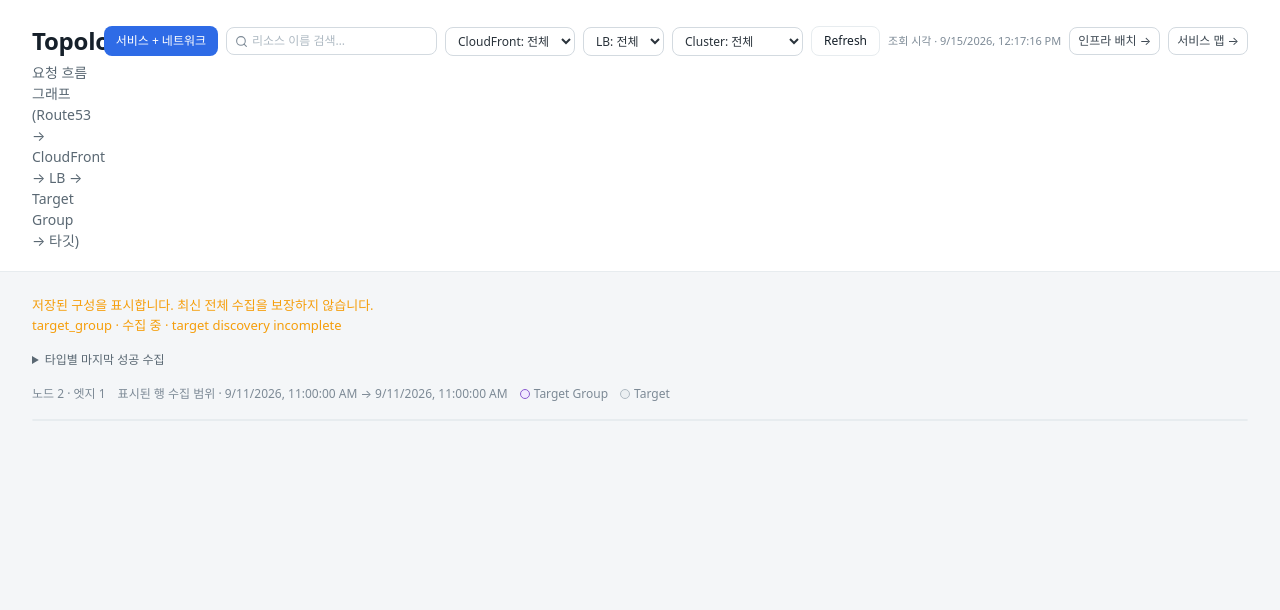
topology page URL and restored scope › keeps retained rows usable for an HTTP 200 running run and preserves the older successful collection
expect the button "서비스 + 네트워크" is shown: met, box [104,26,218,56]
expect the message shows "수집 중": met, box [122,316,162,334]
Type "tg-orders" into the field with placeholder "리소스 이름 검색…" at (340, 41), box [252,32,428,50]
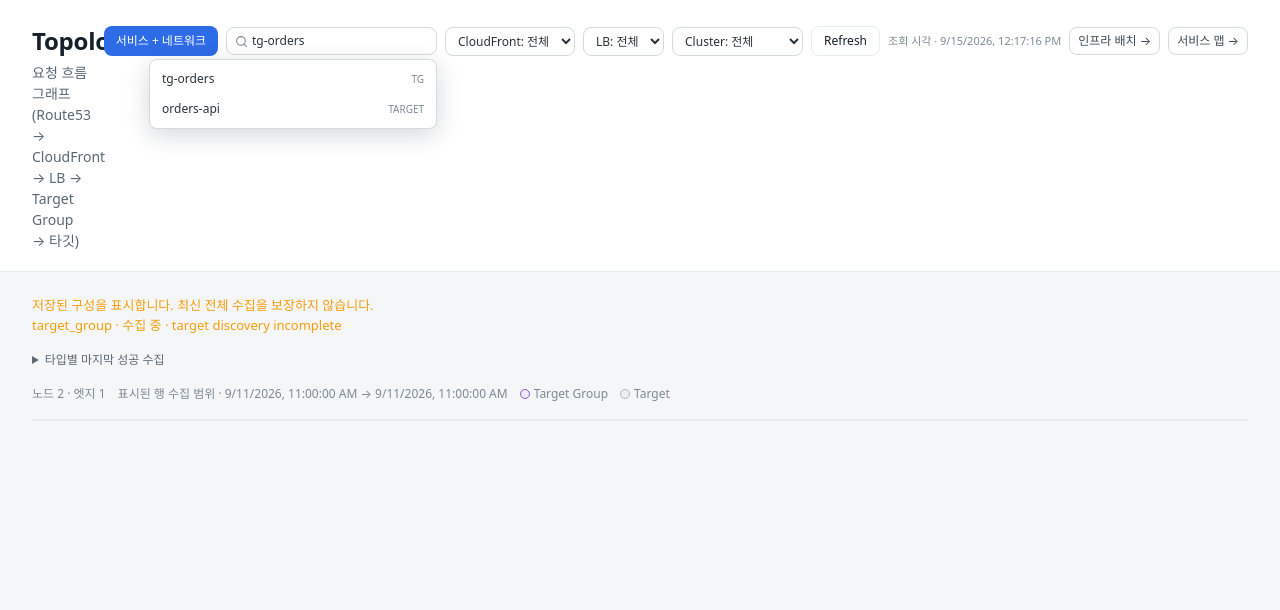
expect the button "tg-orders tg" is shown: met, box [150,64,436,94]
Click the button "서비스 + 네트워크" at (161, 41), box [104,26,218,56]
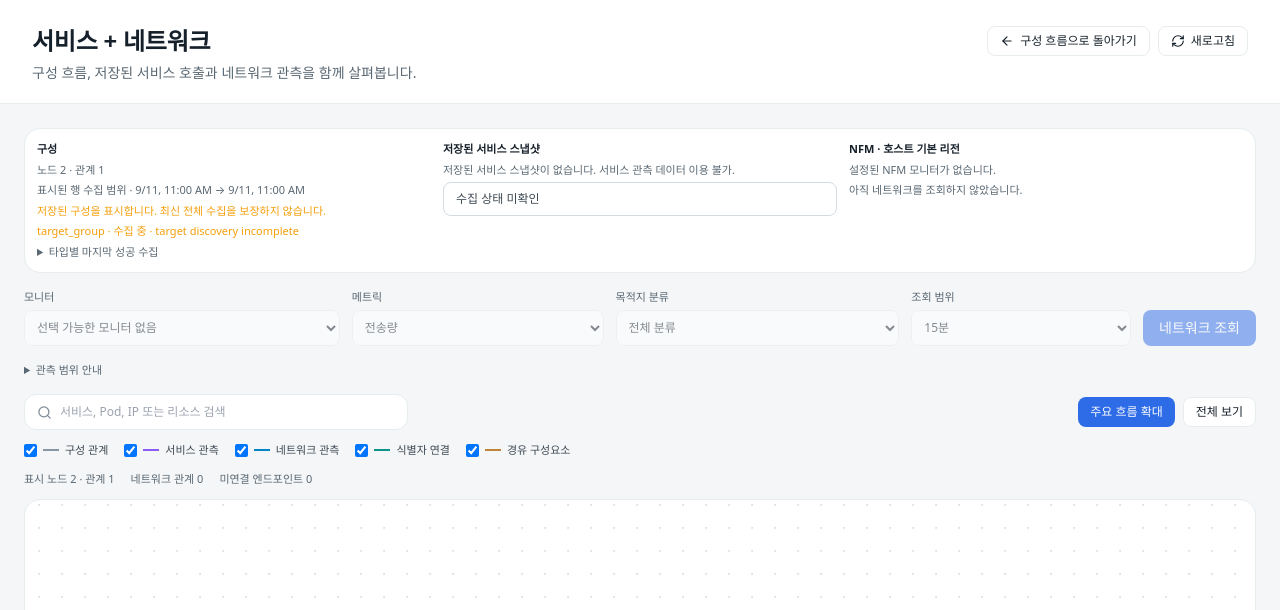
expect the message that starts with "저장된 구성을 표시합니다. 최신 전체 수집을 보장하지 않습니다." shows "수집 중": met, box [113,223,147,238]
expect the element named "NFM 소스" is shown: met, box [849,141,1022,197]
